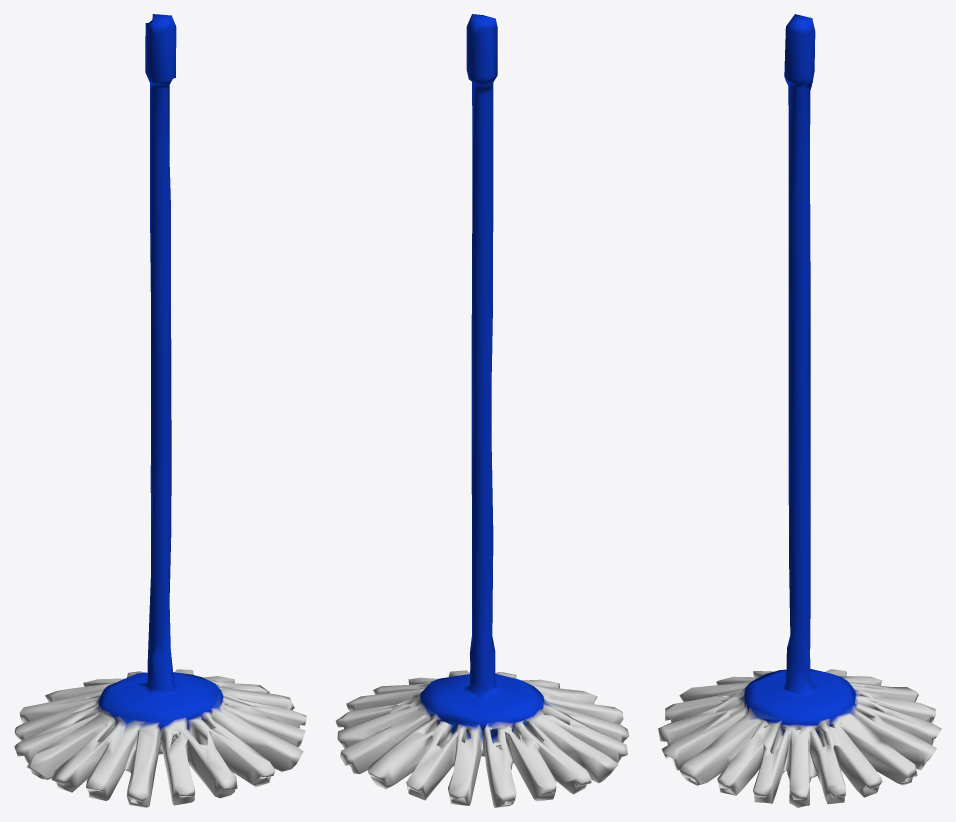
The model's file is gen3d-mop-lod0.glb.
The picture shows the model from 3 angles, left to right: view 1: azimuth 30°, elevation 25°; view 2: azimuth 150°, elevation 25°; view 3: azimuth 270°, elevation 25°; orthographic projection.
Visible parts, largest first — view 1: part_0; view 2: part_0; view 3: part_0.
Boxes of the visible parts, x1,y1,x2,y2 form: part_0: (14,14,306,807); part_0: (335,14,629,807); part_0: (658,14,941,807).
Size of the model in its own units: 0.3794 by 0.9992 by 0.352.
